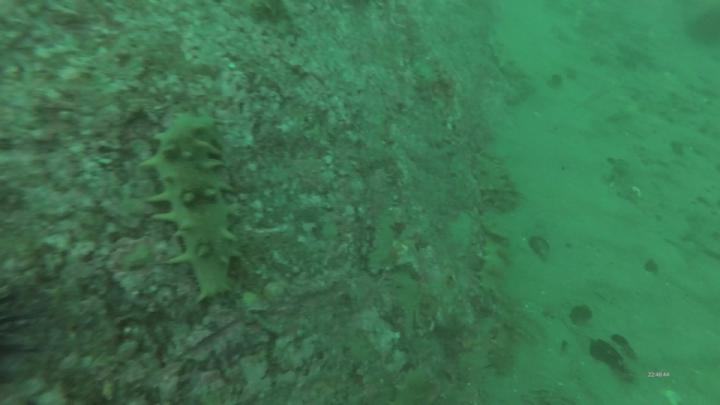echinus: (685, 9, 720, 49)
holothurian: (143, 110, 249, 303), (471, 290, 548, 348), (468, 146, 523, 214), (361, 204, 401, 281), (478, 221, 512, 297), (394, 361, 443, 405), (487, 320, 514, 378)
